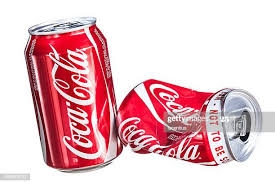metal: (17, 11, 132, 177), (107, 72, 268, 173)
